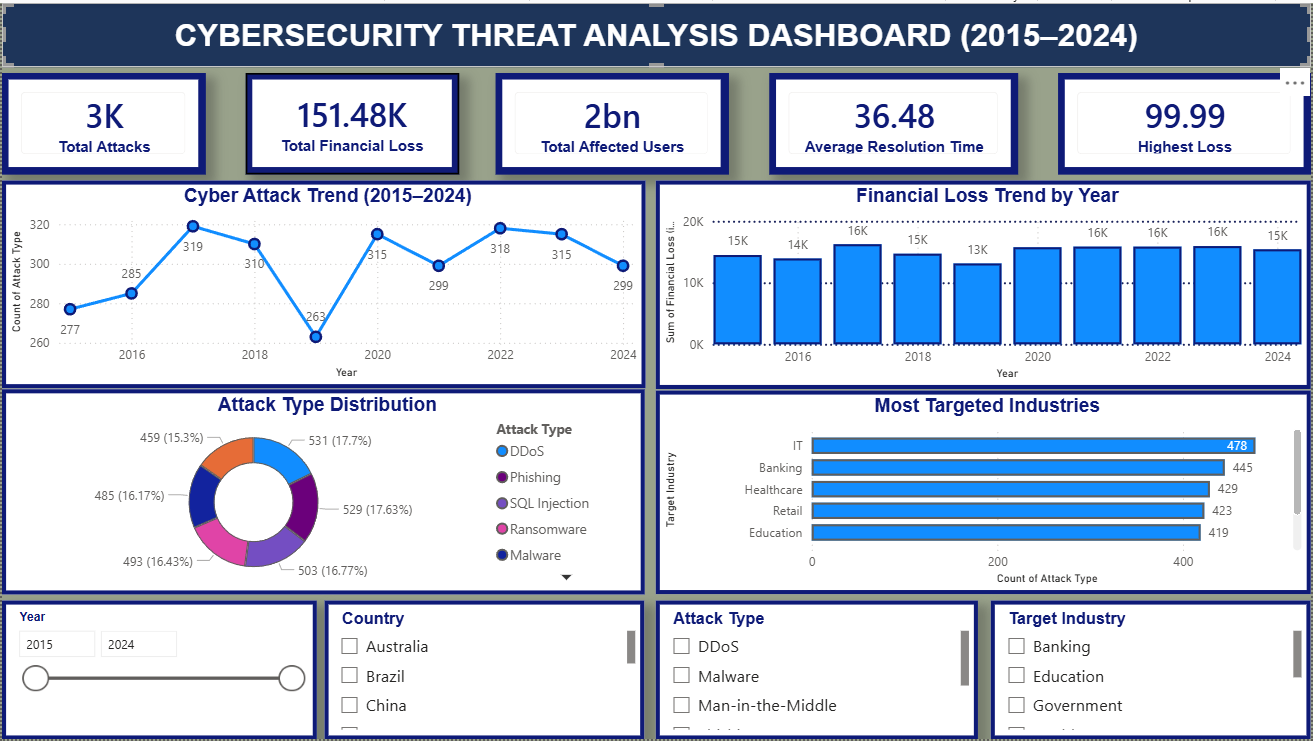

Layout of this report page (visuals, bound fields, positions):
{"tool":"powerbi","page":{"name":"Page 1","canvas":[1280,720],"ordinal":0},"visuals":[{"type":"cardVisual","fields":{"Data":["Global_Cybersecurity_Threats.Total Attacks"]},"box":[0,68.5,199.3,99],"z":0},{"type":"cardVisual","fields":{"Data":["Global_Cybersecurity_Threats.Total Financial Loss"]},"box":[238.5,68.5,209.1,99],"z":1000},{"type":"cardVisual","fields":{"Data":["Global_Cybersecurity_Threats.Total Affected Users"]},"box":[483,68.1,227.8,99.5],"z":2000},{"type":"cardVisual","fields":{"Data":["Global_Cybersecurity_Threats.Average Resolution Time"]},"box":[751.4,68.1,243.5,99.5],"z":3000},{"type":"cardVisual","fields":{"Data":["Global_Cybersecurity_Threats.Highest Loss"]},"box":[1032.9,68.1,247.4,99.5],"z":4000},{"type":"lineChart","title":"Cyber Attack Trend (2015–2024)","fields":{"Category":["Global_Cybersecurity_Threats.Year"],"Y":["CountNonNull(Global_Cybersecurity_Threats.Attack Type)"]},"box":[0,173.6,629.8,203],"z":5000},{"type":"donutChart","title":"Attack Type Distribution","fields":{"Category":["Global_Cybersecurity_Threats.Attack Type"],"Y":["CountNonNull(Global_Cybersecurity_Threats.Attack Type)"]},"box":[0,377.9,628.5,200.5],"z":6000},{"type":"clusteredBarChart","title":"Most Targeted Industries","fields":{"Category":["Global_Cybersecurity_Threats.Target Industry"],"Y":["CountNonNull(Global_Cybersecurity_Threats.Attack Type)"]},"box":[639.5,379.1,640.8,199.3],"z":7000},{"type":"clusteredColumnChart","title":"Financial Loss Trend by Year","fields":{"Category":["Global_Cybersecurity_Threats.Year"],"Y":["Sum(Global_Cybersecurity_Threats.Financial Loss (in Million $))"]},"box":[639.5,173.6,640.8,204.2],"z":8000},{"type":"slicer","fields":{"Values":["Global_Cybersecurity_Threats.Year"]},"box":[0,584.5,308.2,135.7],"z":9000},{"type":"slicer","fields":{"Values":["Global_Cybersecurity_Threats.Country"]},"box":[315.5,584.5,313,135.7],"z":10000},{"type":"slicer","fields":{"Values":["Global_Cybersecurity_Threats.Attack Type"]},"box":[639.5,584.5,315.5,135.7],"z":11000},{"type":"slicer","fields":{"Values":["Global_Cybersecurity_Threats.Target Industry"]},"box":[967.3,584.5,313,135.7],"z":12000},{"type":"shape","box":[0,0,1280.3,62.8],"z":13000}]}

Visuals, with their boxes in screenshot pixels (x1, y1, x2, y2), scaled from the page's 1280x720 canvas onto the 1313x741 screenshot:
cardVisual - Global_Cybersecurity_Threats.Total Attacks: bbox=[0, 70, 204, 172]
cardVisual - Global_Cybersecurity_Threats.Total Financial Loss: bbox=[245, 70, 459, 172]
cardVisual - Global_Cybersecurity_Threats.Total Affected Users: bbox=[495, 70, 729, 172]
cardVisual - Global_Cybersecurity_Threats.Average Resolution Time: bbox=[771, 70, 1021, 172]
cardVisual - Global_Cybersecurity_Threats.Highest Loss: bbox=[1060, 70, 1312, 172]
"Cyber Attack Trend (2015–2024)" lineChart: bbox=[0, 179, 646, 388]
"Attack Type Distribution" donutChart: bbox=[0, 389, 645, 595]
"Most Targeted Industries" clusteredBarChart: bbox=[656, 390, 1312, 595]
"Financial Loss Trend by Year" clusteredColumnChart: bbox=[656, 179, 1312, 389]
slicer - Global_Cybersecurity_Threats.Year: bbox=[0, 602, 316, 740]
slicer - Global_Cybersecurity_Threats.Country: bbox=[324, 602, 645, 740]
slicer - Global_Cybersecurity_Threats.Attack Type: bbox=[656, 602, 980, 740]
slicer - Global_Cybersecurity_Threats.Target Industry: bbox=[992, 602, 1312, 740]
shape: bbox=[0, 0, 1312, 65]
